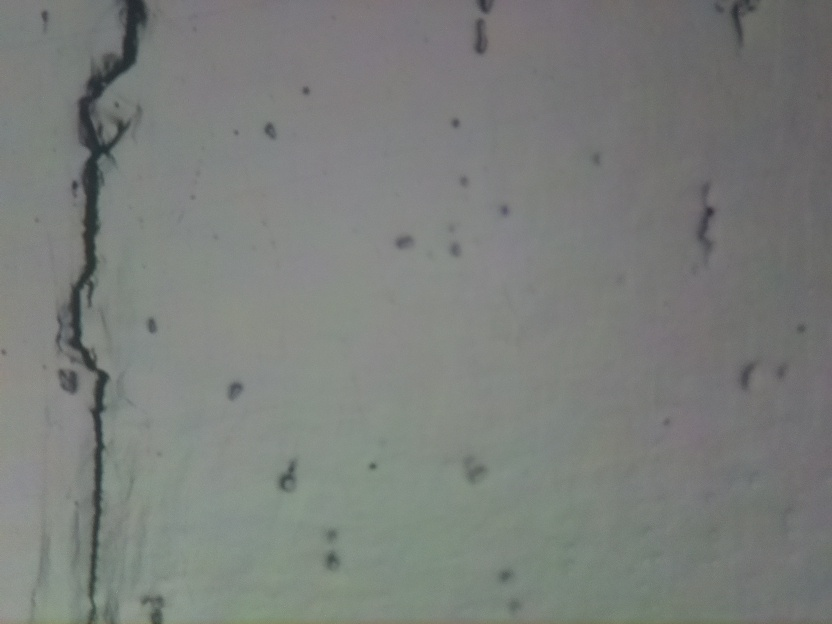crack: (68, 0, 152, 623)
